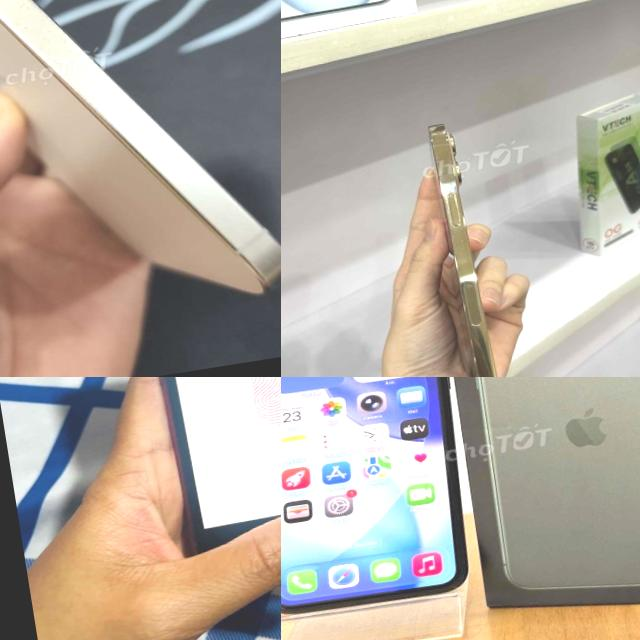scratch: (0, 0, 190, 194)
